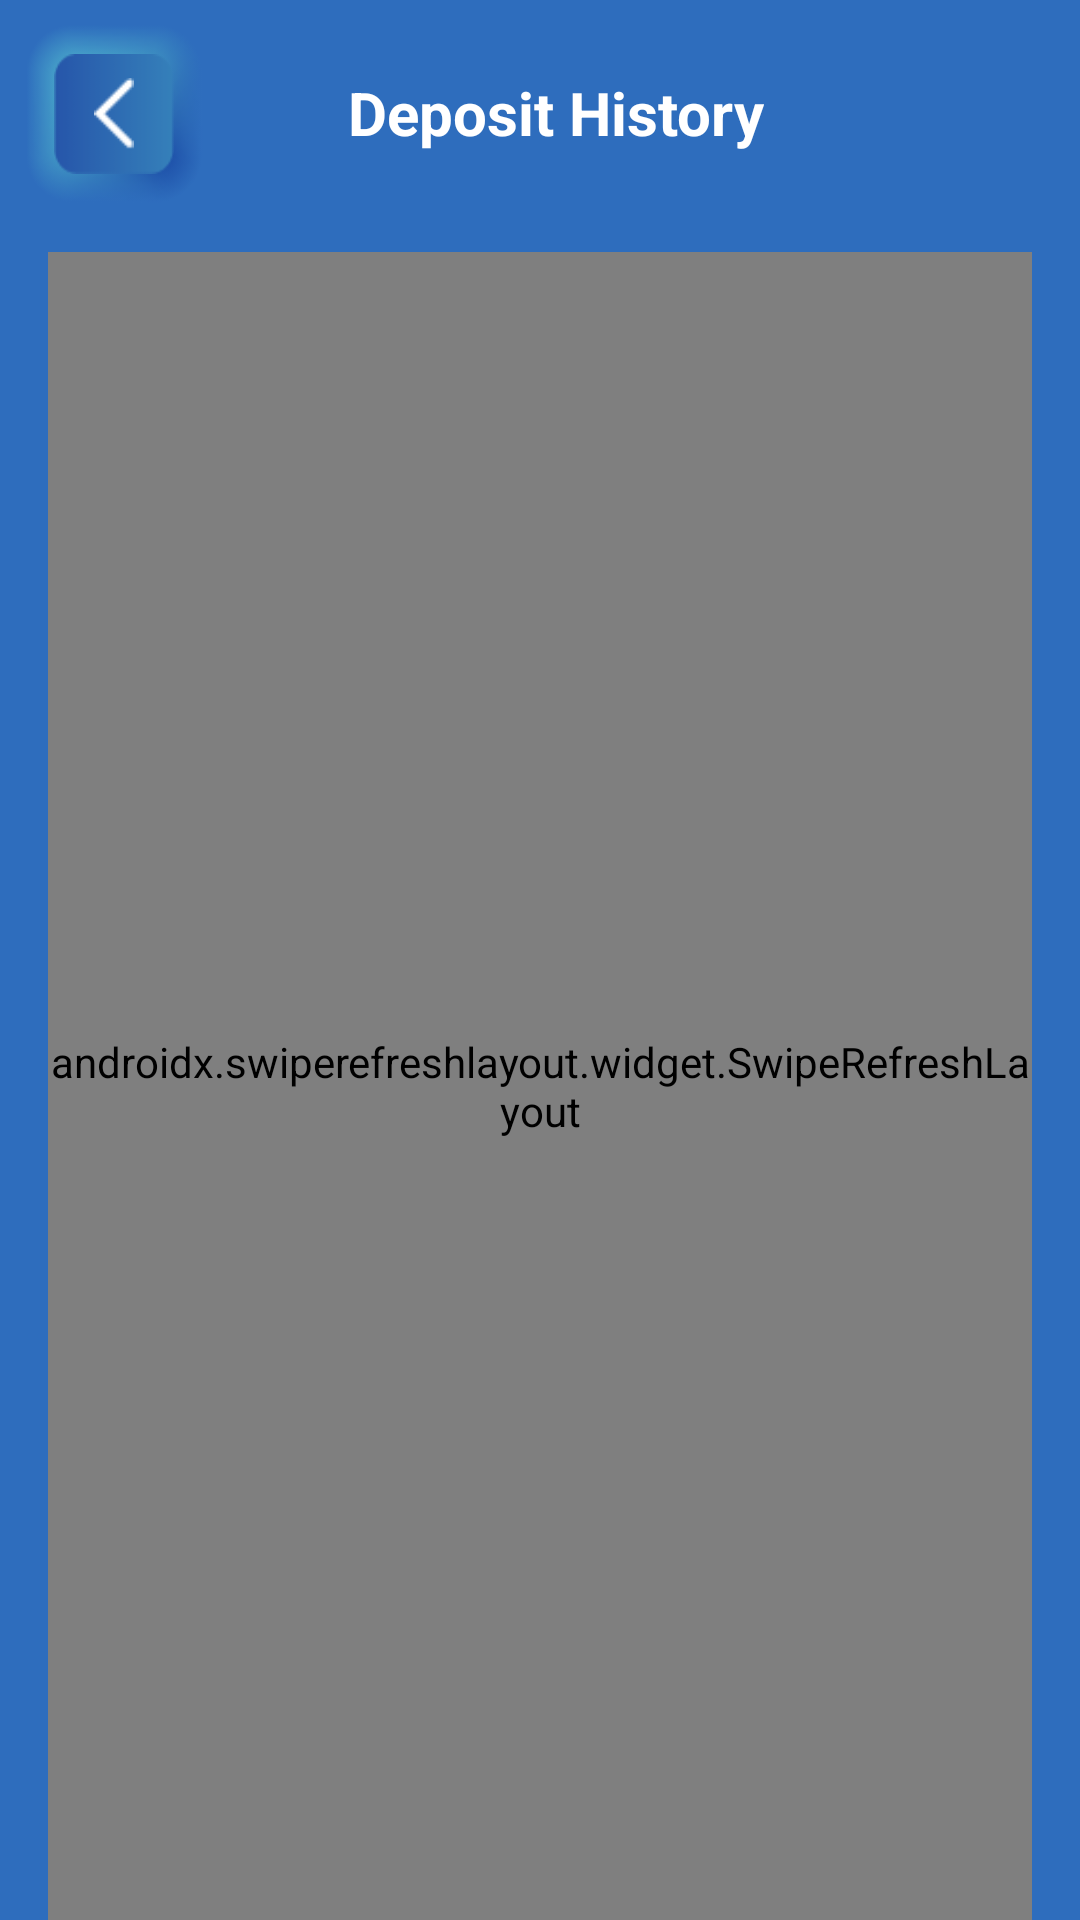

Locate icon controls on the screen. Image size 1080px x 1920px, boxes as (x1, y1, x2, y2).
back: (54, 54, 174, 174)
